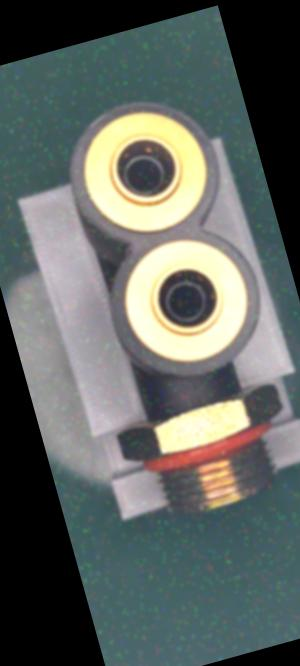joint line: (185, 373, 204, 396)
